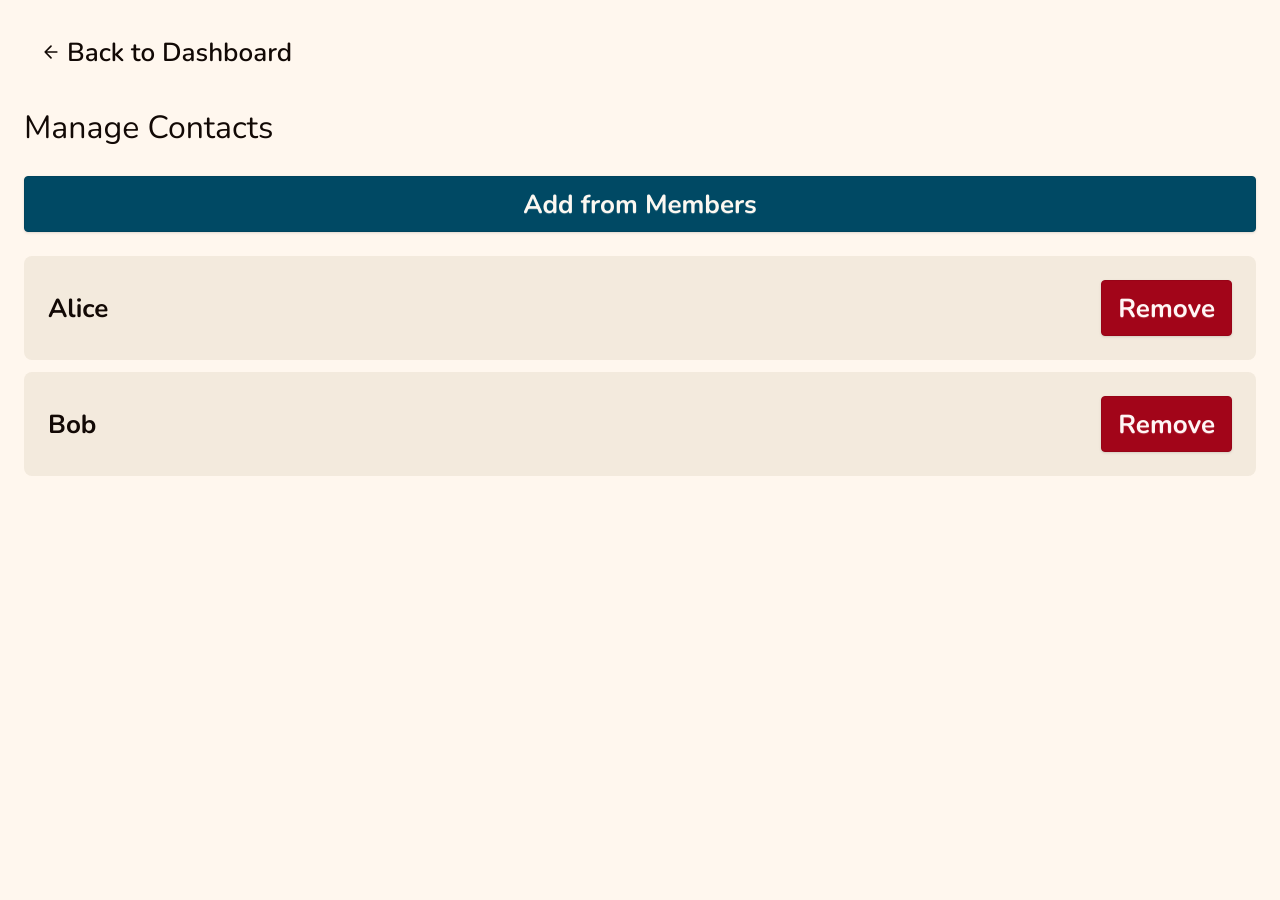
Test: ManageContacts › clicking Add from Members reveals LinkedUserPicker
This screenshot has width=1280, height=900.
What coordinates should you click on to do the following:
click the button "Add from Members"
I would click on:
 (640, 204)
Its box is x1=24 y1=176 x2=1256 y2=232.
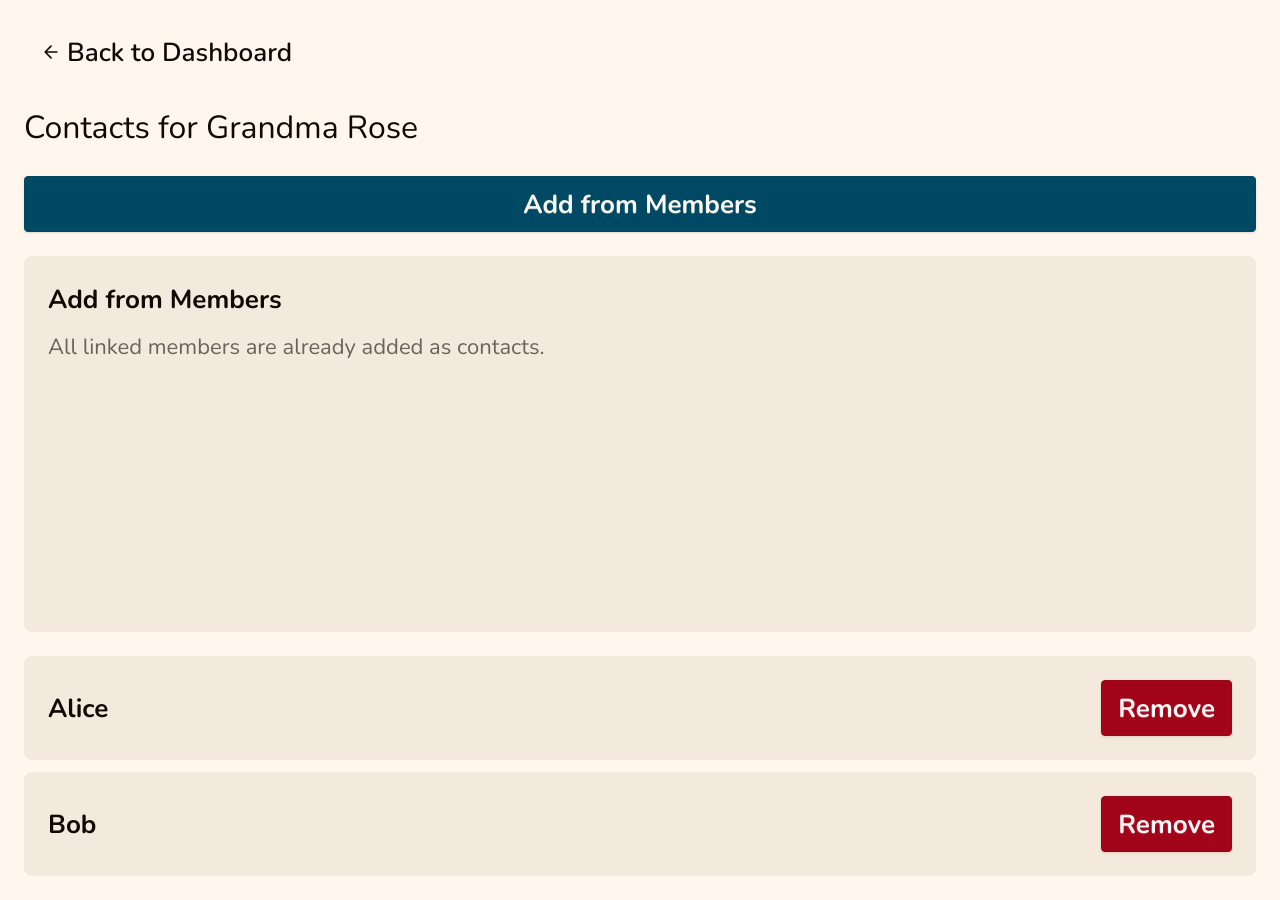
Expected: the element named "loading" is shown, x1=24 y1=256 x2=1256 y2=632
